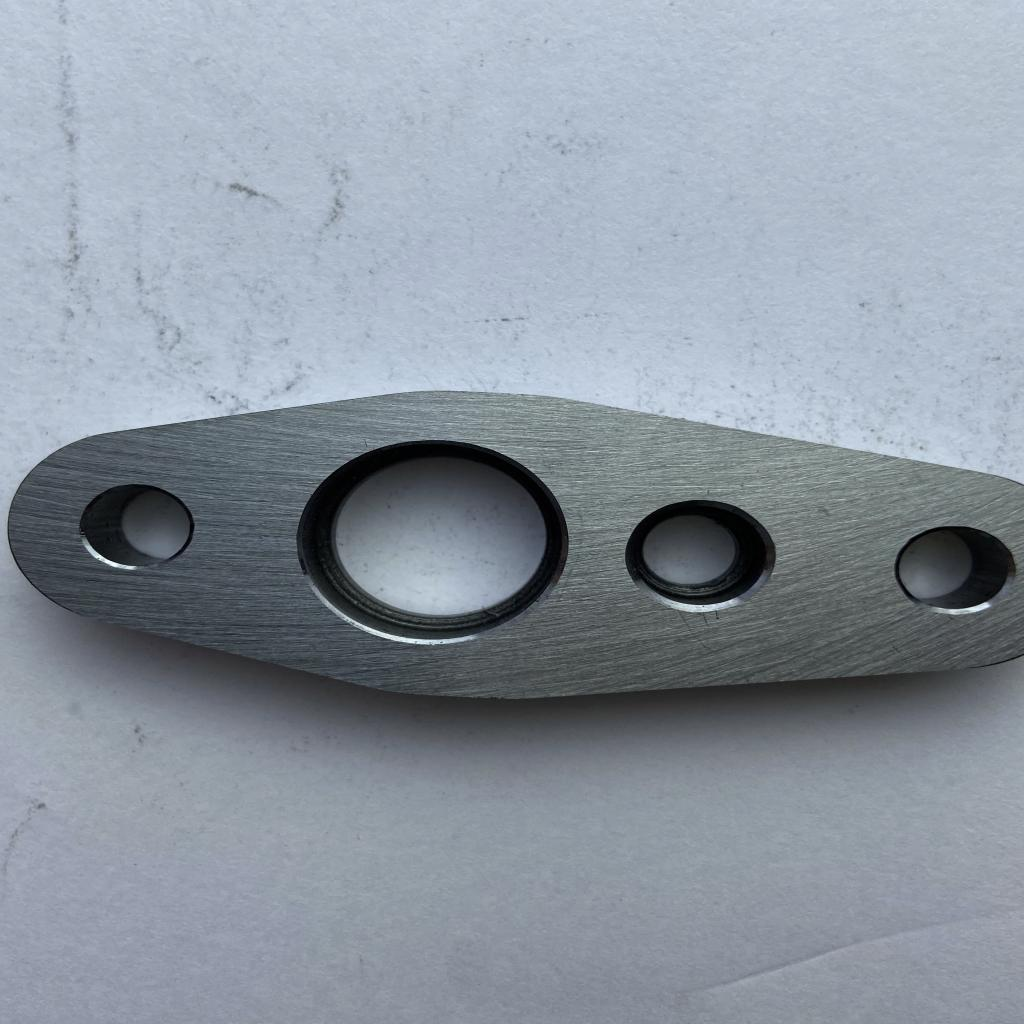chap: (710, 608, 728, 622)
lines: (678, 608, 708, 651)
